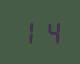four: (40, 20, 60, 44)
one: (19, 20, 39, 44)
